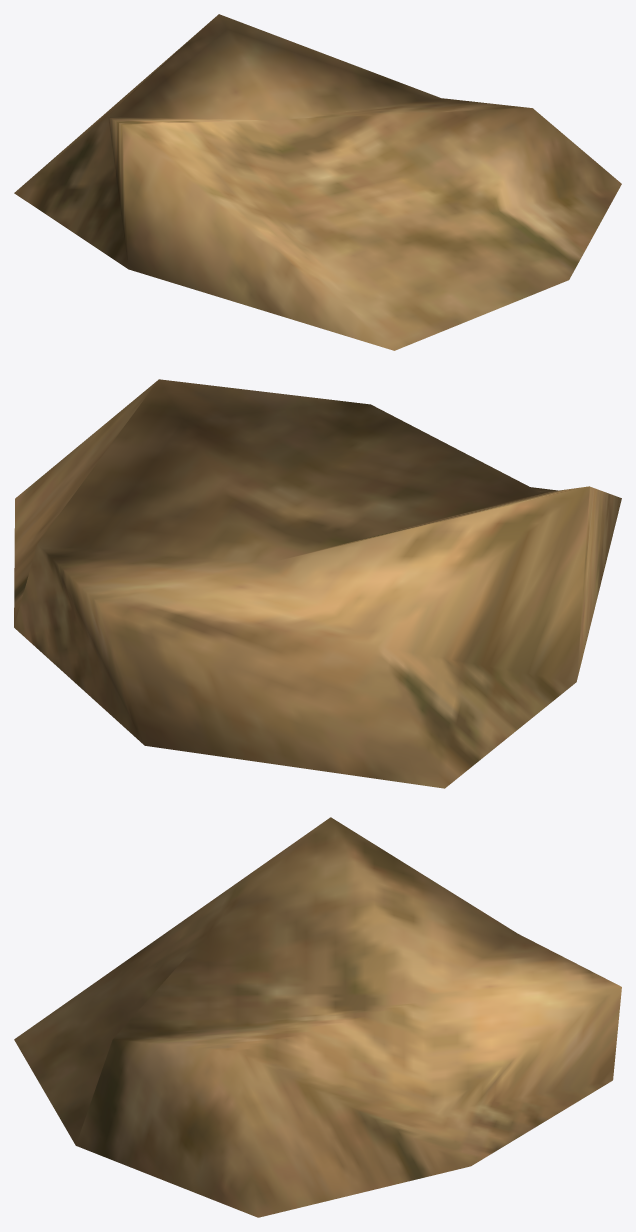
File: M5_Rock03.glb
The picture shows the model from 3 angles, top to bottom: view 1: azimuth 30°, elevation 25°; view 2: azimuth 150°, elevation 25°; view 3: azimuth 270°, elevation 25°; orthographic projection. The views are drawn at different scales.
Visible parts, largest first — view 1: M5_ROCK03; view 2: M5_ROCK03; view 3: M5_ROCK03.
Part boxes in pixels (left/top/right/bottom): M5_ROCK03: left=14, top=14, right=621, bottom=350; M5_ROCK03: left=14, top=379, right=621, bottom=788; M5_ROCK03: left=14, top=817, right=621, bottom=1217.
Size of the model in its own units: 0.967 by 0.293 by 1.02.
Materials: 1 (1 with a texture image).
